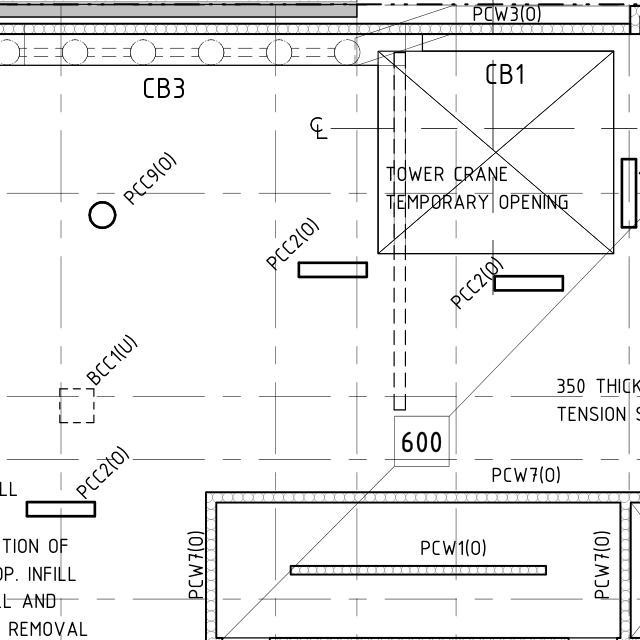BCC1-U-: (80, 330, 143, 386)
CB1: (468, 52, 536, 91)
CB3: (128, 57, 207, 103)
PCC2-O-: (70, 437, 141, 498), (258, 216, 319, 265), (445, 254, 502, 304)
PCC9-O-: (113, 145, 189, 208)
PCW1-O-: (414, 526, 494, 562)
PCW3-O-: (467, 0, 552, 21)
PCW7-O-: (163, 518, 209, 606), (579, 513, 616, 603), (485, 452, 563, 491)
